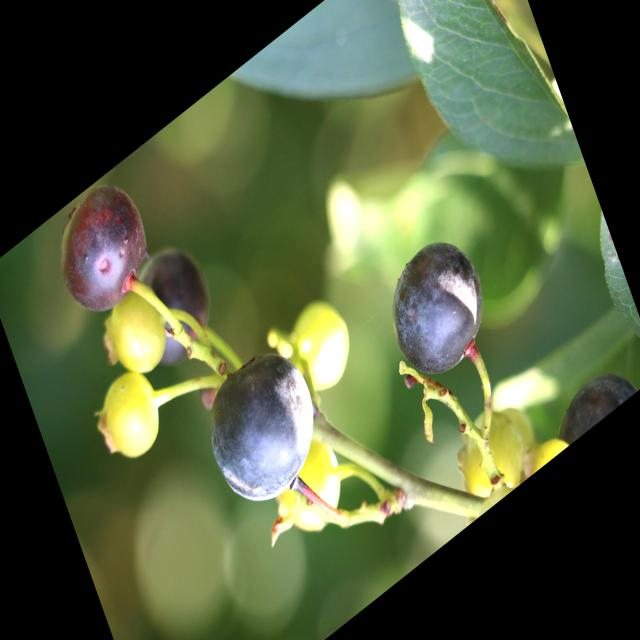blueberry: (194, 323, 337, 530), (372, 212, 501, 402), (40, 161, 167, 339), (122, 227, 226, 383)
blueberry-unripe: (448, 398, 540, 521), (90, 353, 173, 480), (270, 432, 354, 552), (284, 284, 361, 404), (101, 278, 175, 392)
